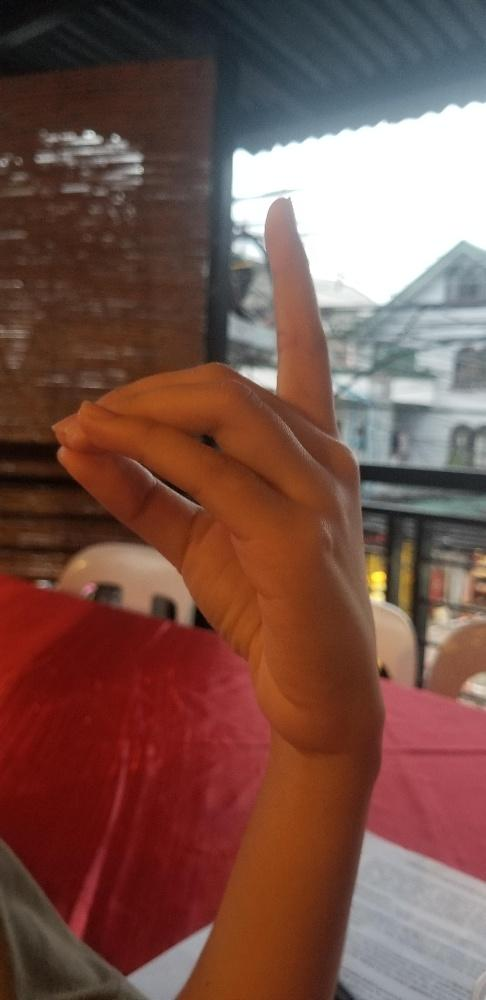d: (51, 194, 385, 749)
